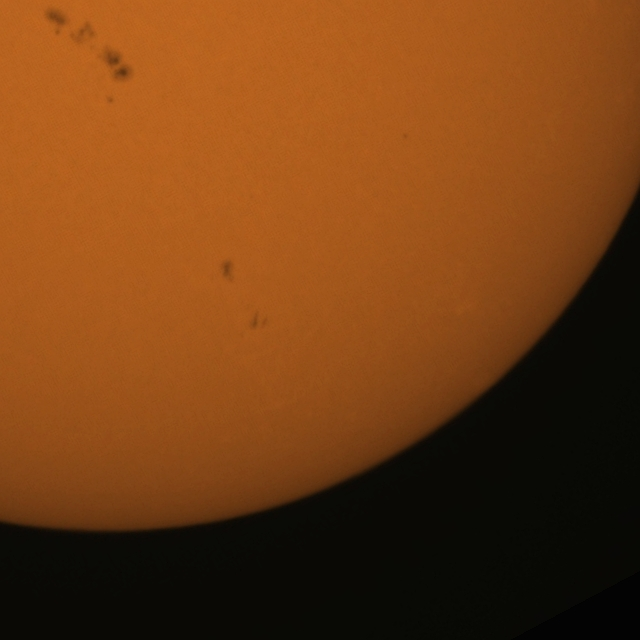sunspot: (42, 3, 98, 44), (59, 18, 98, 50), (98, 47, 130, 83), (44, 2, 67, 38), (218, 258, 236, 285), (105, 94, 116, 106)
